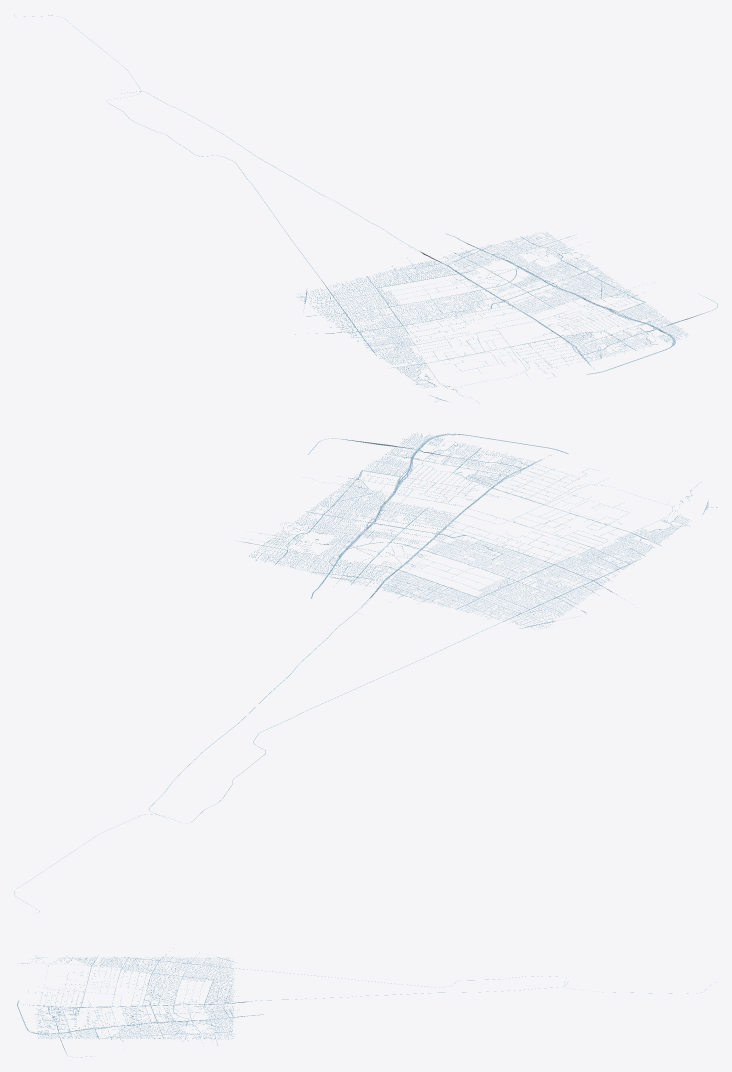
The model's file is roads.glb.
The picture shows the model from 3 angles, top to bottom: view 1: azimuth 30°, elevation 25°; view 2: azimuth 150°, elevation 25°; view 3: azimuth 270°, elevation 25°; orthographic projection. The views are drawn at different scales.
Visible parts, largest first — view 1: roads; view 2: roads; view 3: roads.
Boxes of the visible parts, x1=… form: roads: x1=14, y1=14, x2=717, y2=403; roads: x1=14, y1=432, x2=717, y2=911; roads: x1=17, y1=951, x2=710, y2=1057.
Bounding box in the file's own units: 11292 × 215 × 28851.
